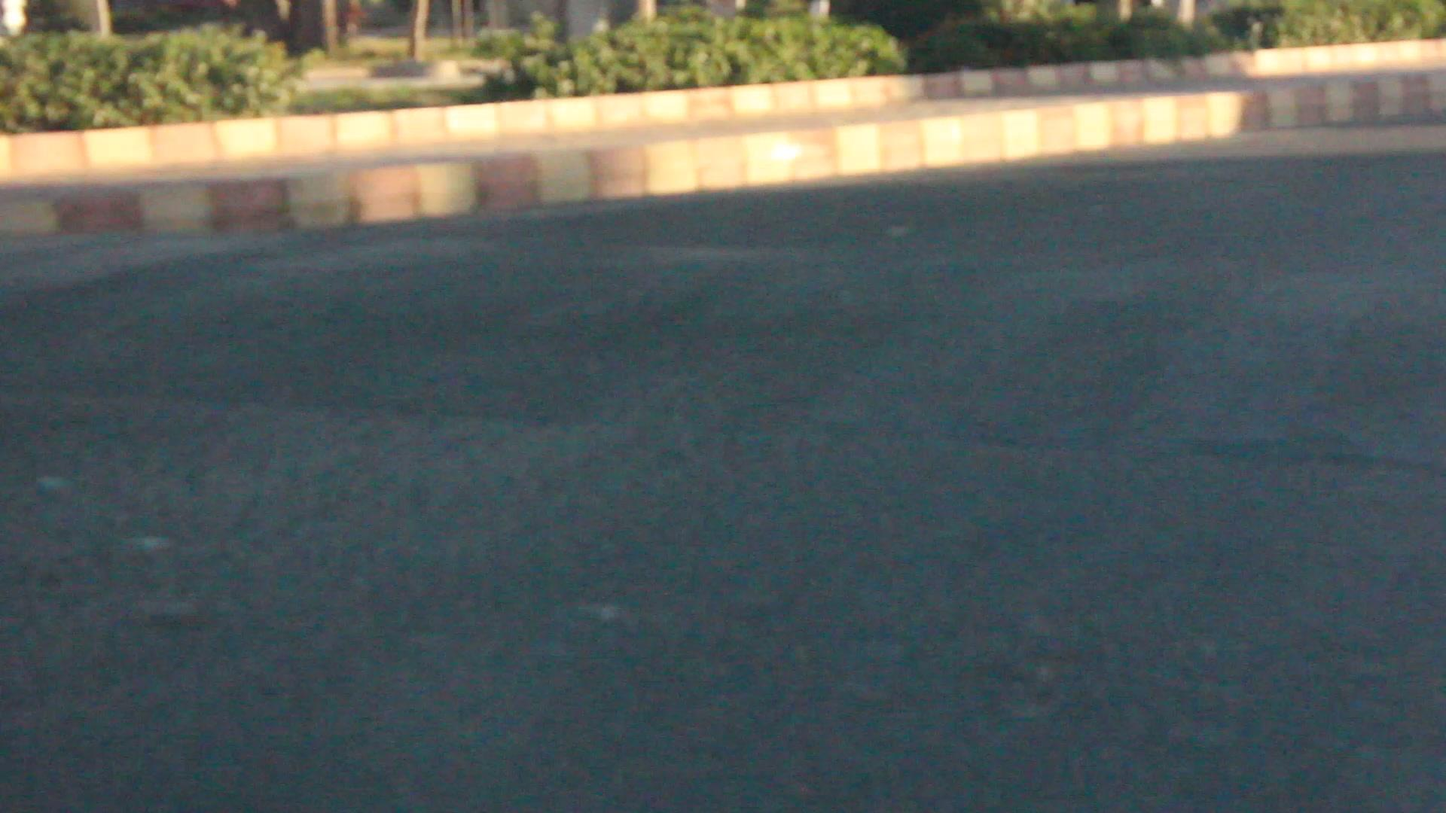Bump: (19, 245, 1446, 487)
